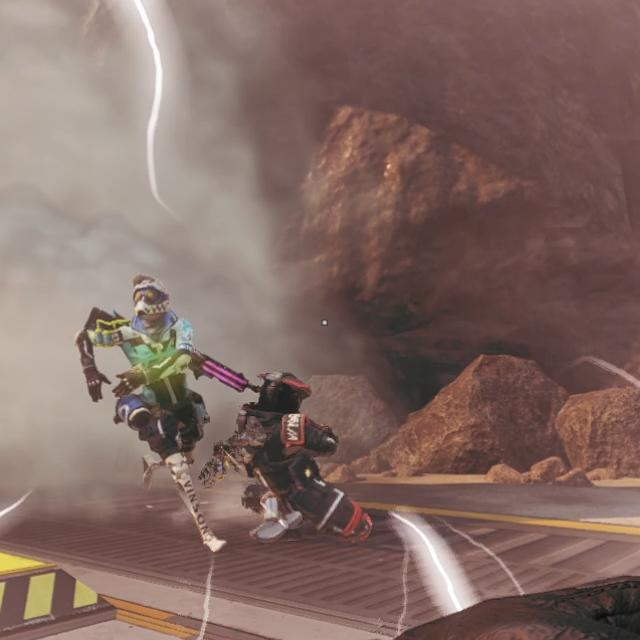avatar: (76, 272, 229, 556), (233, 366, 376, 547)
